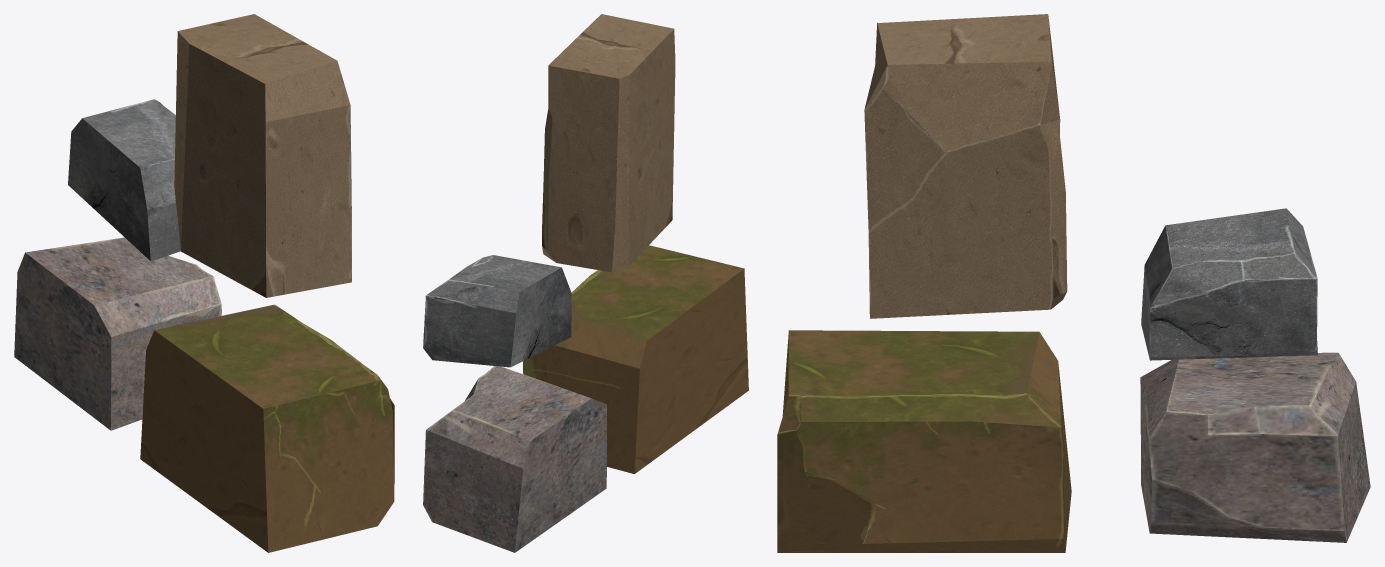
The model's file is stone bricks.fbx.
3 views of the same model, side by side, from view 1: azimuth 30°, elevation 25°; view 2: azimuth 150°, elevation 25°; view 3: azimuth 270°, elevation 25° (orthographic). The views are drawn at different scales.
Parts seen in each view (by area): view 1: Cube.003, Cube.005, Cube.006, Cube.008; view 2: Cube.003, Cube.005, Cube.006, Cube.008; view 3: Cube.003, Cube.005, Cube.006, Cube.008.
Boxes of the visible parts, bbox=[...] form: Cube.003: bbox=[140, 304, 394, 552]; Cube.005: bbox=[174, 14, 351, 297]; Cube.006: bbox=[14, 237, 221, 430]; Cube.008: bbox=[68, 99, 180, 261]; Cube.003: bbox=[523, 245, 748, 473]; Cube.005: bbox=[542, 14, 675, 272]; Cube.006: bbox=[423, 366, 606, 552]; Cube.008: bbox=[423, 255, 571, 367]; Cube.003: bbox=[777, 330, 1071, 552]; Cube.005: bbox=[864, 14, 1067, 318]; Cube.006: bbox=[1140, 352, 1370, 542]; Cube.008: bbox=[1141, 208, 1317, 360].
Size of the model in its own units: 82.13 by 240 by 262.
4 materials, 4 textured.
